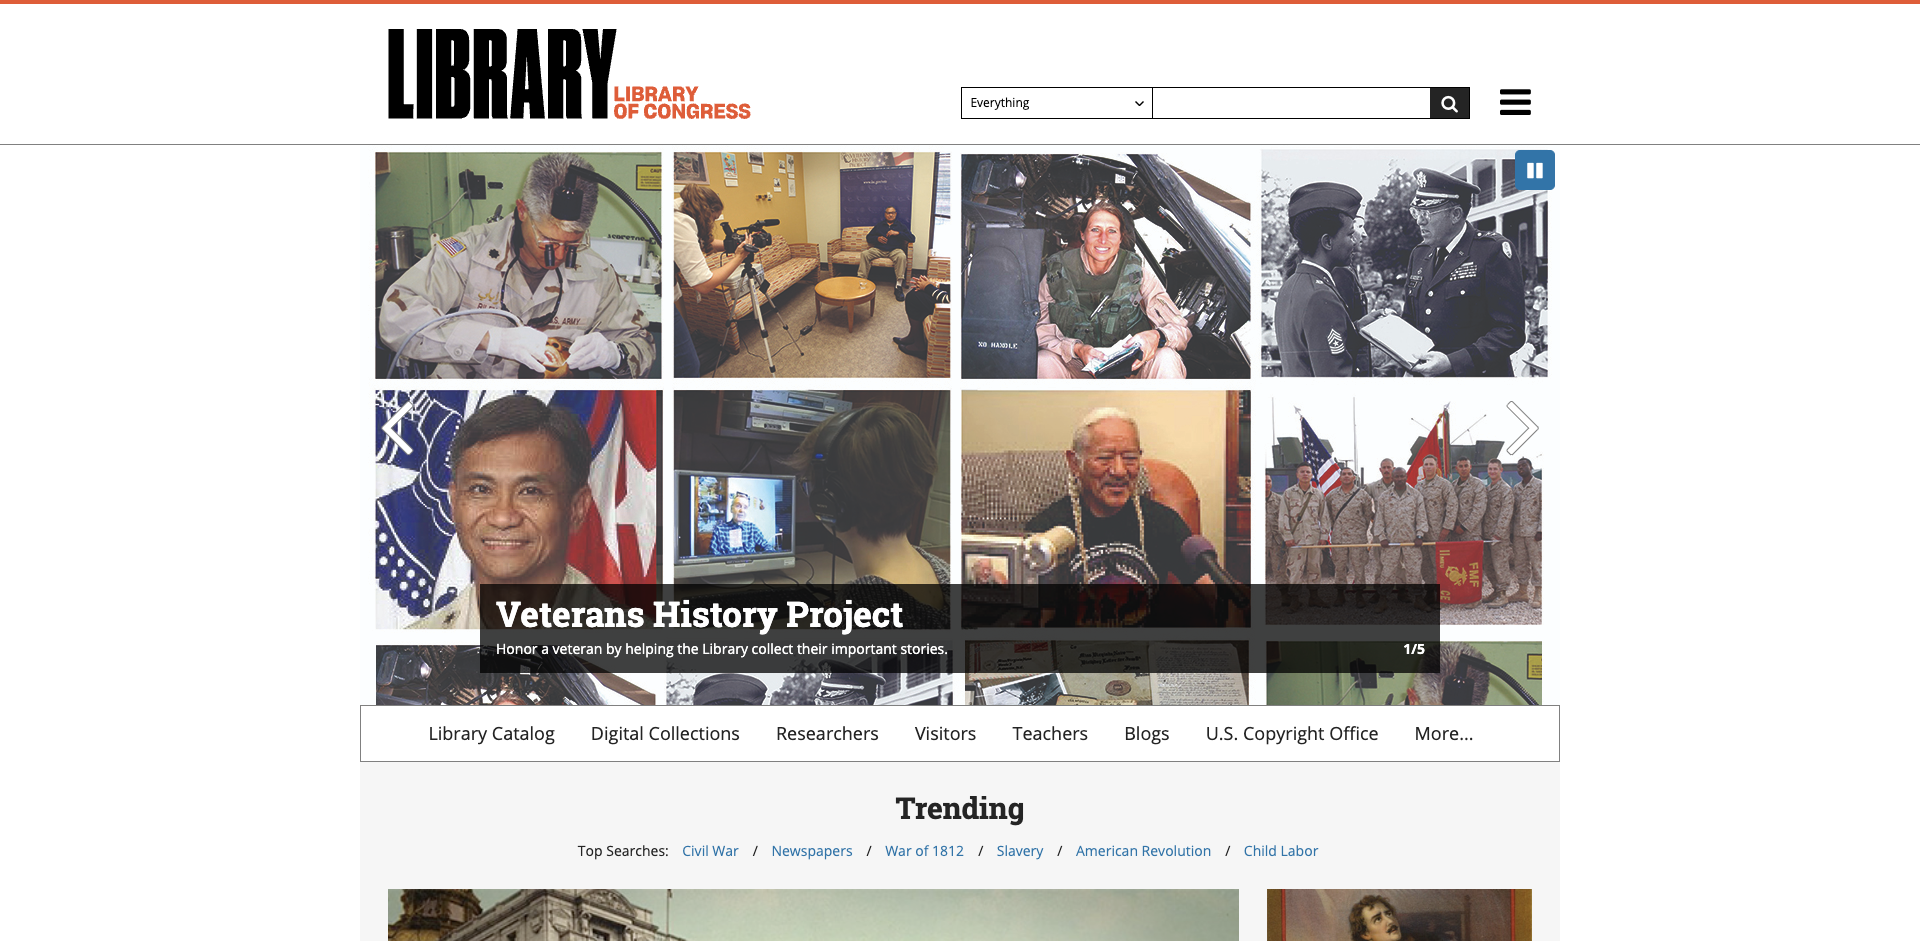button: (1485, 67, 1547, 145), (380, 395, 420, 461), (1500, 395, 1540, 461), (1515, 149, 1555, 190), (1430, 88, 1469, 118)
dropdown: (962, 88, 1152, 118)
input: (1152, 88, 1430, 118)
label: (960, 86, 961, 87)
link: (360, 145, 1560, 705), (0, 145, 360, 705), (1560, 145, 1920, 705), (388, 29, 751, 119), (1267, 888, 1532, 941), (1188, 720, 1397, 745), (573, 720, 758, 745), (429, 720, 573, 745), (758, 720, 896, 745), (994, 720, 1106, 745), (1076, 841, 1211, 860), (896, 720, 994, 745), (1397, 720, 1491, 745), (1106, 720, 1188, 745), (771, 841, 852, 860), (885, 841, 964, 860), (1244, 841, 1319, 860), (682, 841, 738, 860), (997, 841, 1043, 860)
slider: (0, 145, 360, 705), (1560, 145, 1920, 705)
